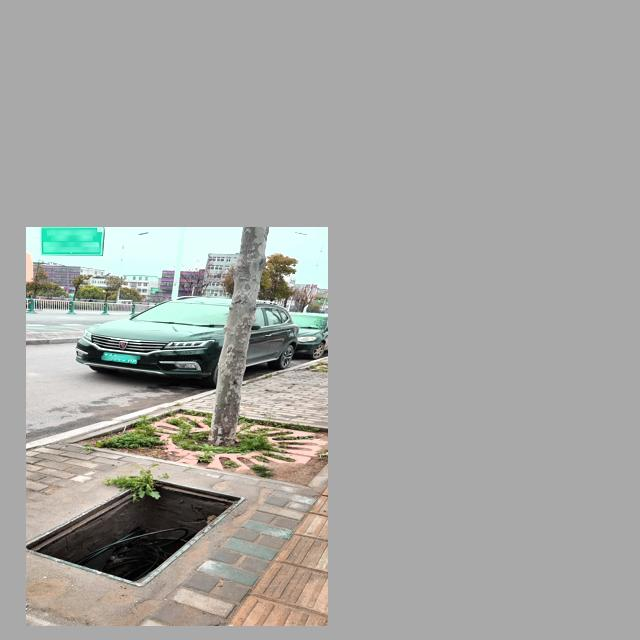lose: (26, 480, 246, 590)
